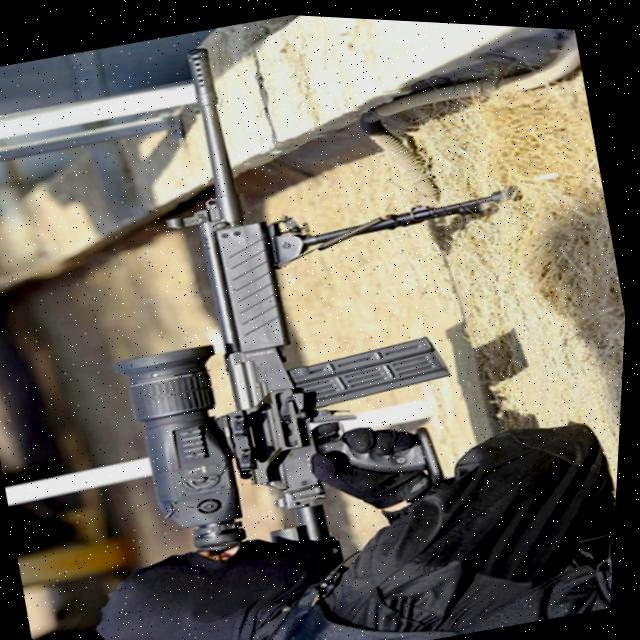firearm: (44, 3, 602, 585)
